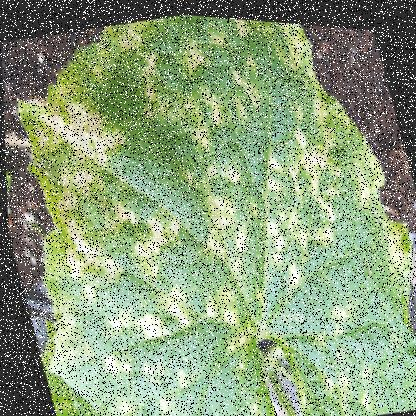DownyMildew: (162, 104, 403, 347), (109, 7, 343, 240), (87, 250, 284, 415), (46, 163, 235, 333), (13, 49, 170, 231), (265, 248, 415, 415)
